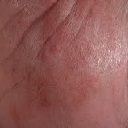Actinic: (19, 64, 54, 111), (65, 65, 94, 97), (37, 21, 58, 54)
